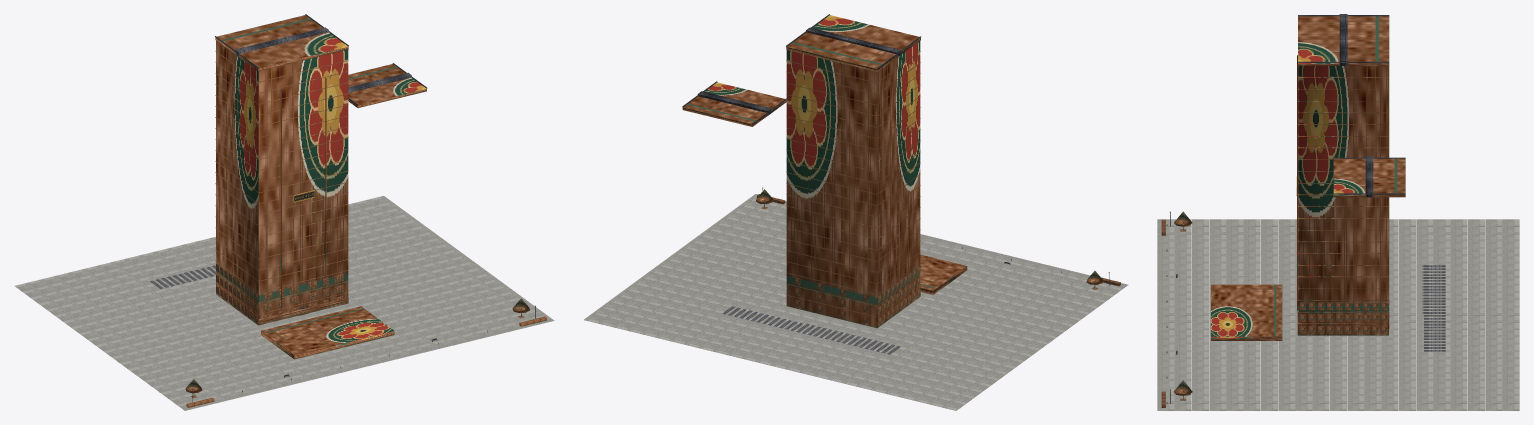
The picture shows the model from 3 angles, left to right: view 1: azimuth 30°, elevation 25°; view 2: azimuth 150°, elevation 25°; view 3: azimuth 270°, elevation 25°; orthographic projection. The views are drawn at different scales.
Visible parts, largest first — view 1: 11710_01_05836_034_01__plinth_ground_base, 11710_01_05836_034_02__mass_body_facade, 11710_01_05836_034_03__roof_metal_ornament, 11710_01_05836_034_05__window_sash_glass, 11710_01_05836_034_06__landscape_greenery, 11710_01_05836_034_03__roof_deck_structure; view 2: 11710_01_05836_034_01__plinth_ground_base, 11710_01_05836_034_02__mass_body_facade, 11710_01_05836_034_03__roof_metal_ornament, 11710_01_05836_034_03__roof_deck_structure, 11710_01_05836_034_06__landscape_greenery; view 3: 11710_01_05836_034_01__plinth_ground_base, 11710_01_05836_034_02__mass_body_facade, 11710_01_05836_034_03__roof_deck_structure, 11710_01_05836_034_03__roof_metal_ornament, 11710_01_05836_034_06__landscape_greenery.
Part boxes in pixels (x1,y1,x2,y2): 11710_01_05836_034_01__plinth_ground_base: [15, 196, 554, 410]; 11710_01_05836_034_02__mass_body_facade: [215, 15, 426, 359]; 11710_01_05836_034_03__roof_metal_ornament: [215, 14, 427, 105]; 11710_01_05836_034_05__window_sash_glass: [263, 273, 343, 318]; 11710_01_05836_034_06__landscape_greenery: [185, 298, 546, 407]; 11710_01_05836_034_03__roof_deck_structure: [150, 265, 215, 288]; 11710_01_05836_034_01__plinth_ground_base: [584, 194, 1128, 410]; 11710_01_05836_034_02__mass_body_facade: [682, 15, 967, 328]; 11710_01_05836_034_03__roof_metal_ornament: [682, 14, 921, 124]; 11710_01_05836_034_03__roof_deck_structure: [722, 306, 900, 354]; 11710_01_05836_034_06__landscape_greenery: [756, 189, 1120, 289]; 11710_01_05836_034_01__plinth_ground_base: [1157, 219, 1519, 410]; 11710_01_05836_034_02__mass_body_facade: [1211, 16, 1405, 340]; 11710_01_05836_034_03__roof_deck_structure: [1422, 265, 1445, 351]; 11710_01_05836_034_03__roof_metal_ornament: [1298, 14, 1405, 197]; 11710_01_05836_034_06__landscape_greenery: [1161, 211, 1192, 407].
Size of the model in its own units: 140 by 94.8 by 112.
7 materials, 7 textured.
